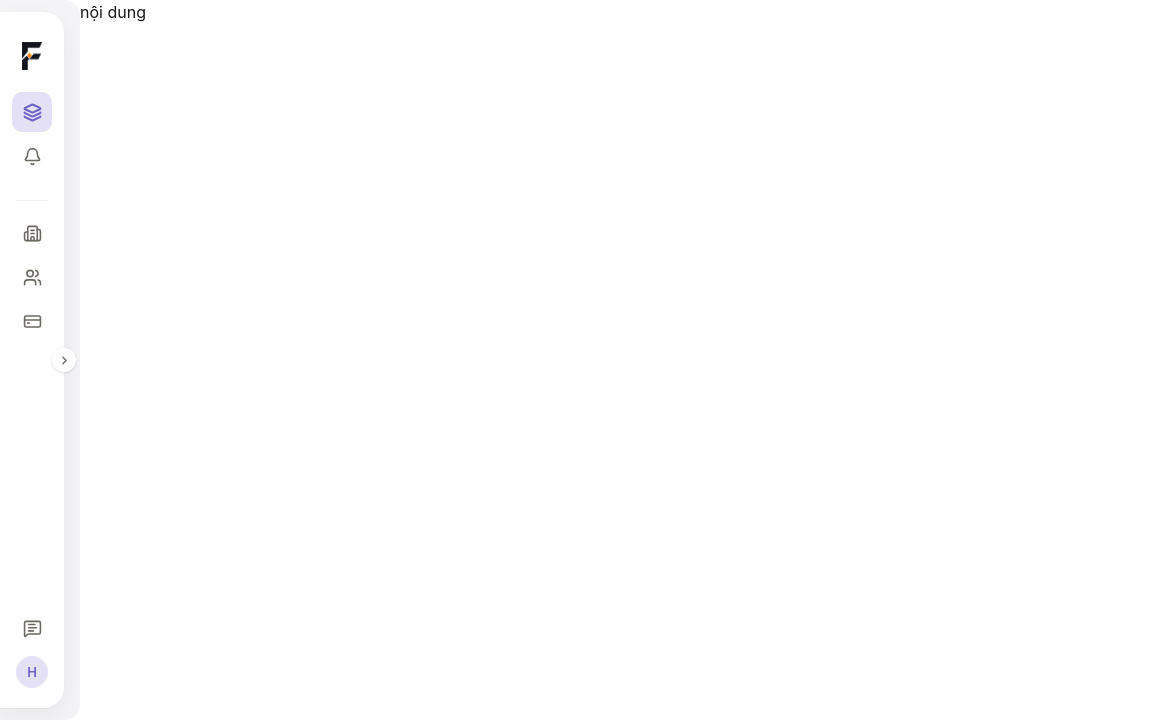
Test: AppSidebar › Gửi góp ý mở dialog
The width and height of the screenshot is (1152, 720).
Click the button named "Gửi góp ý" at point(32, 628), box [12, 608, 52, 648]
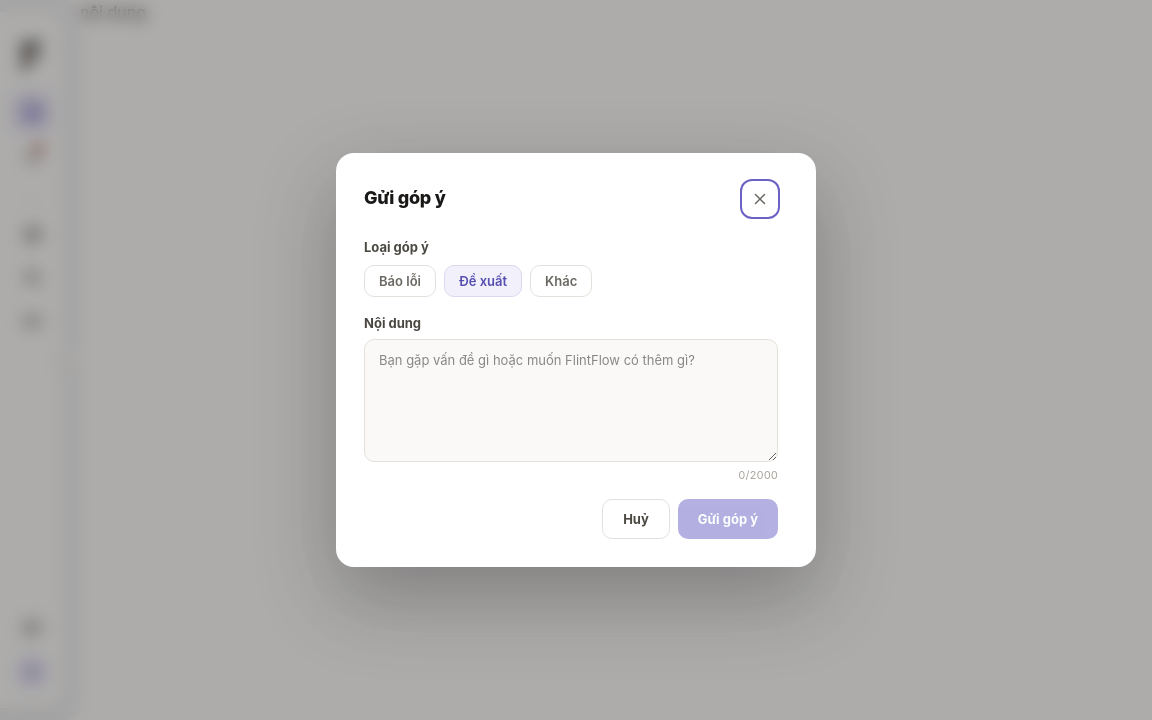
expect the dialog "Gửi góp ý" is shown: met, box [336, 152, 816, 567]
